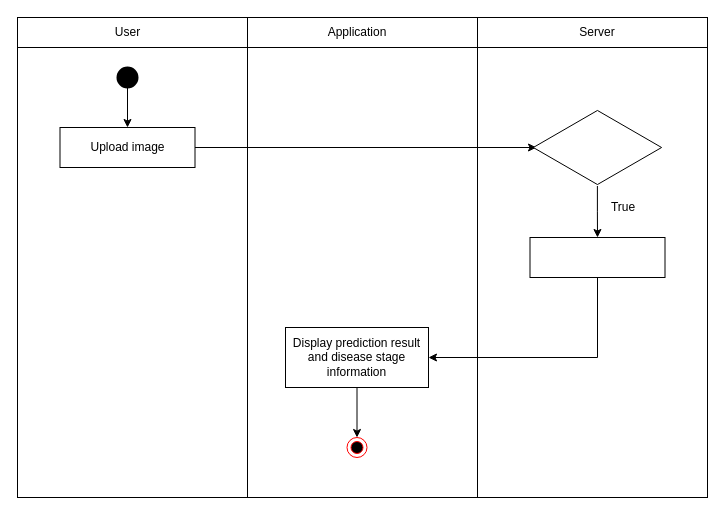
The diagram is 725 pixels wide and 515 high, and some of its shapes have lost their labels. Each missing label, with the centre of its shape:
Check image format: point 597,147
Predict disease stage: point 597,257
